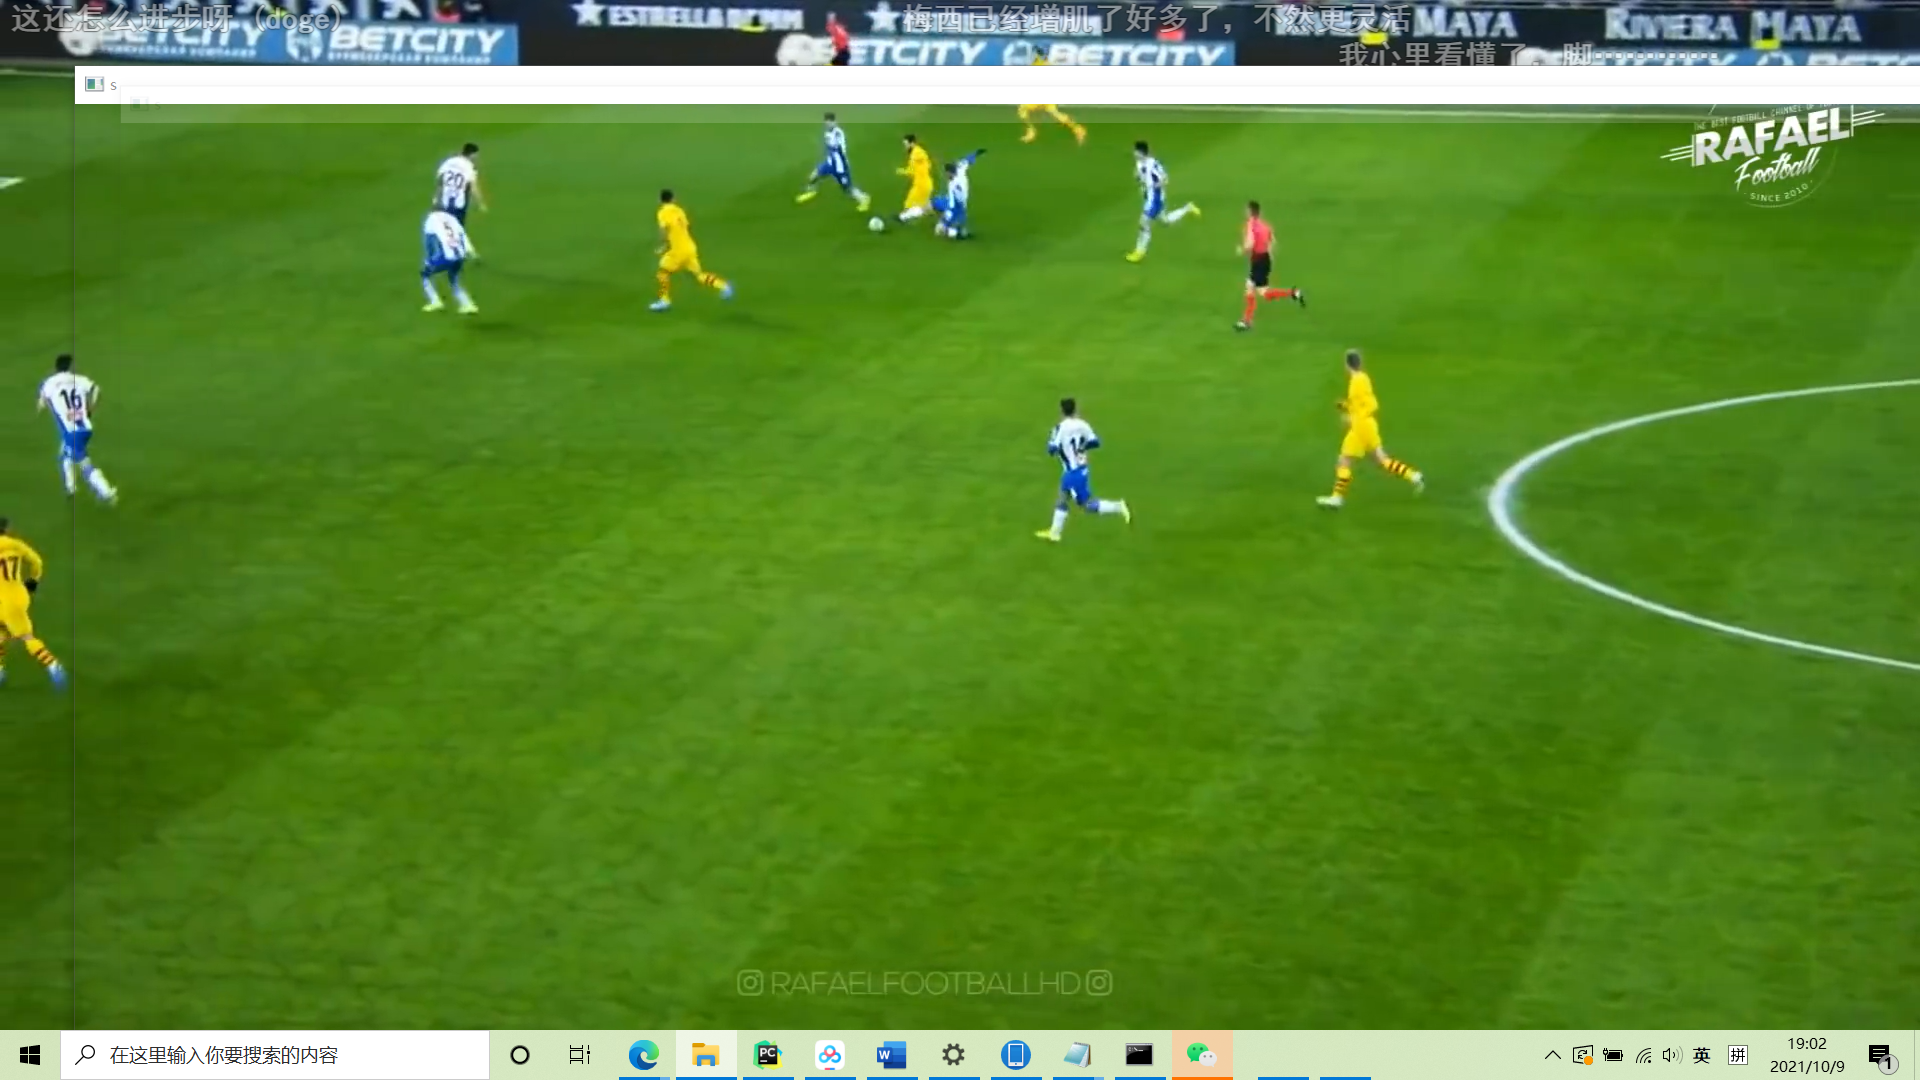ft: (866, 215, 886, 236)
